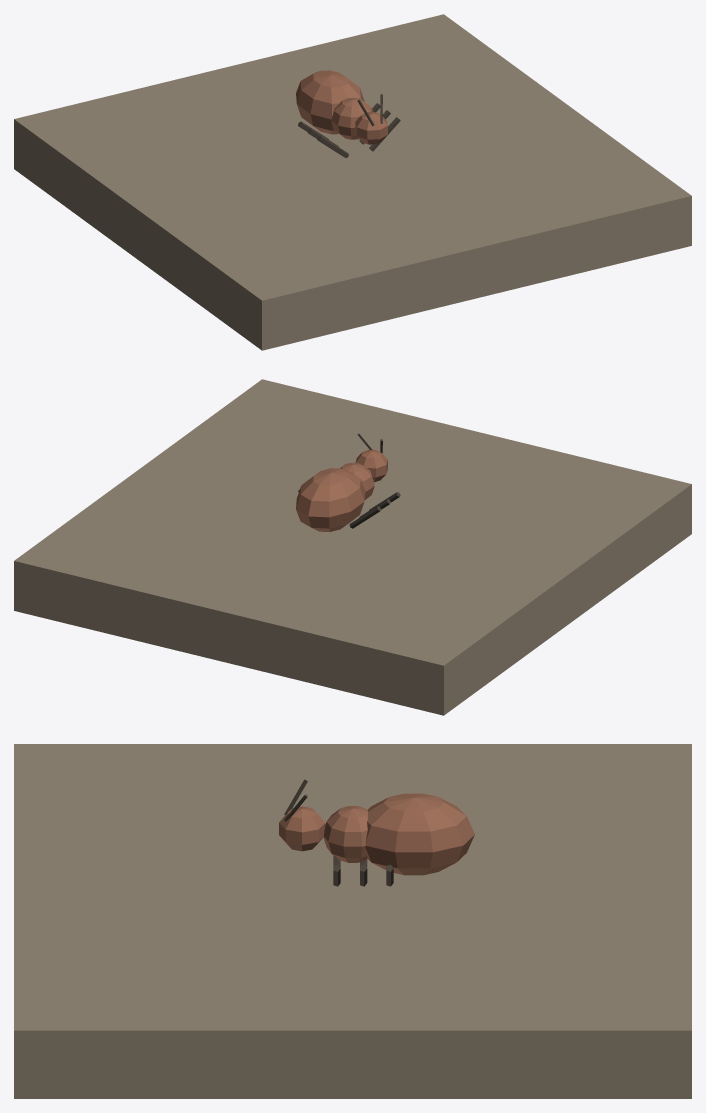
File: bug_ant.glb
The picture shows the model from 3 angles, top to bottom: view 1: azimuth 30°, elevation 25°; view 2: azimuth 150°, elevation 25°; view 3: azimuth 270°, elevation 25°; orthographic projection. The views are drawn at different scales.
Parts seen in each view (by area): view 1: Base, TurretMesh, HeadMesh; view 2: Base, TurretMesh, HeadMesh; view 3: Base, TurretMesh, HeadMesh.
Part boxes in pixels (box(x1,y1,x2,y2)): Base: box(14, 14, 691, 350); TurretMesh: box(296, 70, 400, 157); HeadMesh: box(355, 94, 387, 144); Base: box(14, 379, 691, 715); TurretMesh: box(296, 462, 400, 531); HeadMesh: box(355, 433, 387, 482); Base: box(14, 744, 691, 1098); TurretMesh: box(323, 793, 474, 886); HeadMesh: box(279, 779, 325, 851).
Bounding box in the file's own units: 1.8 × 0.4933 × 1.8.
